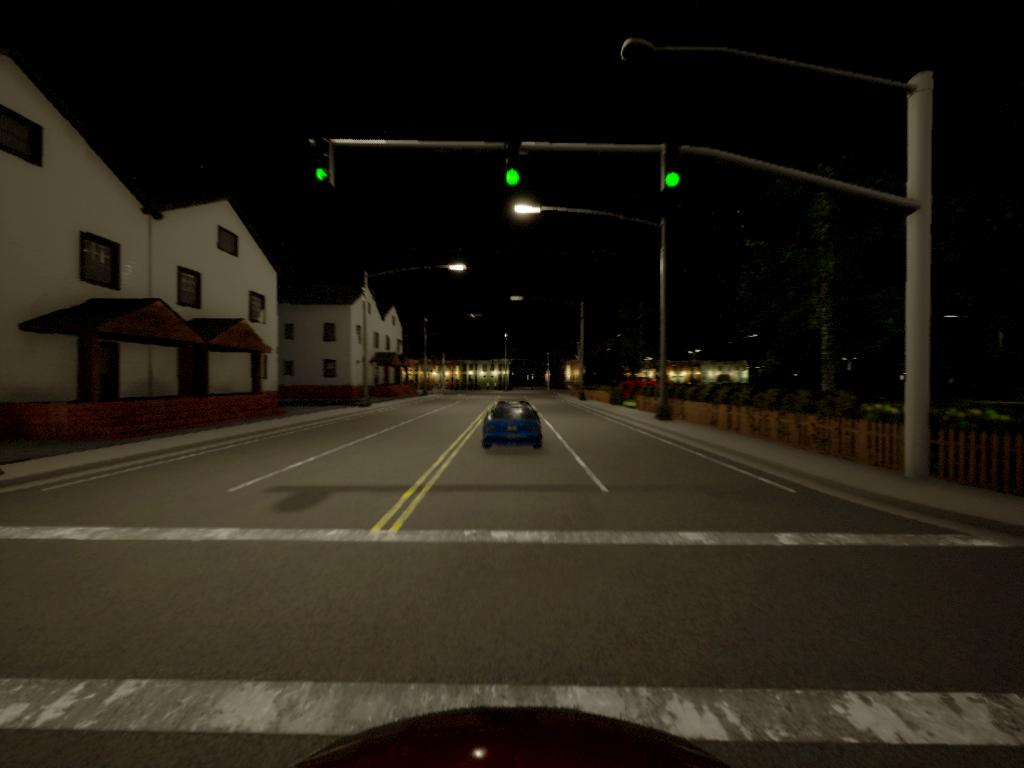traffic_light: (499, 155, 540, 228), (656, 142, 688, 196), (311, 139, 337, 188)
